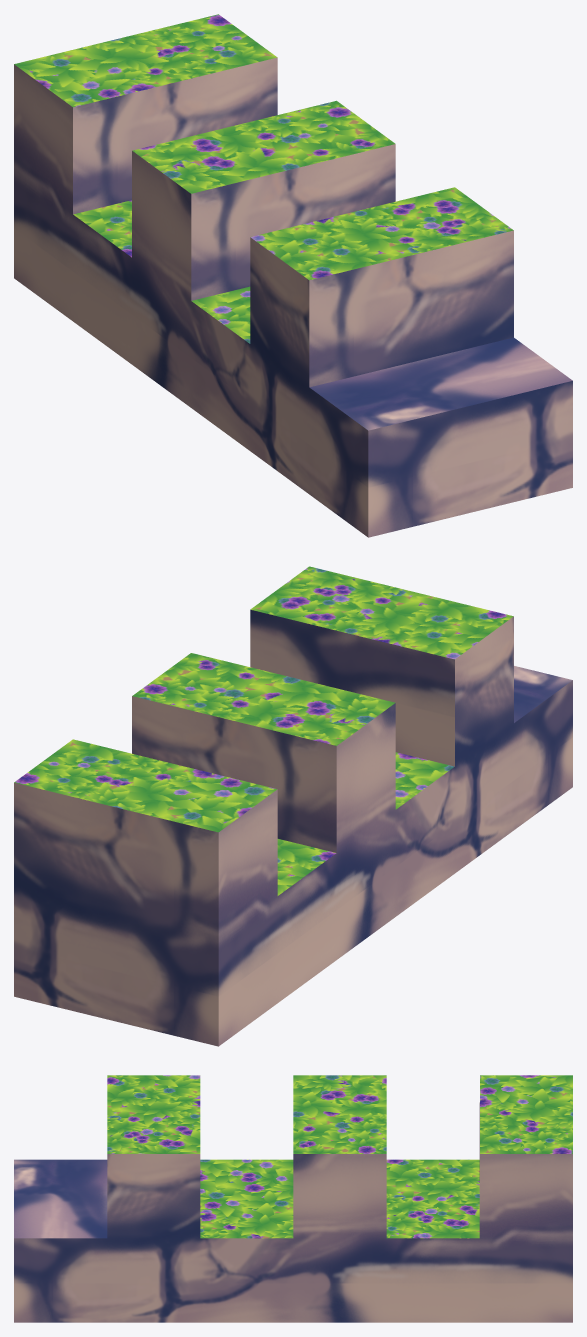
Rendered from block_04.fbx.
The picture shows the model from 3 angles, top to bottom: view 1: azimuth 30°, elevation 25°; view 2: azimuth 150°, elevation 25°; view 3: azimuth 270°, elevation 25°; orthographic projection. The views are drawn at different scales.
Parts seen in each view (by area): view 1: Block_04; view 2: Block_04; view 3: Block_04.
Part boxes in pixels (left/top/right/bottom): Block_04: left=14, top=14, right=572, bottom=537; Block_04: left=14, top=566, right=572, bottom=1046; Block_04: left=14, top=1075, right=572, bottom=1322.
Bounding box in the file's own units: 400 × 400 × 1200.
2 materials, 2 textured.
